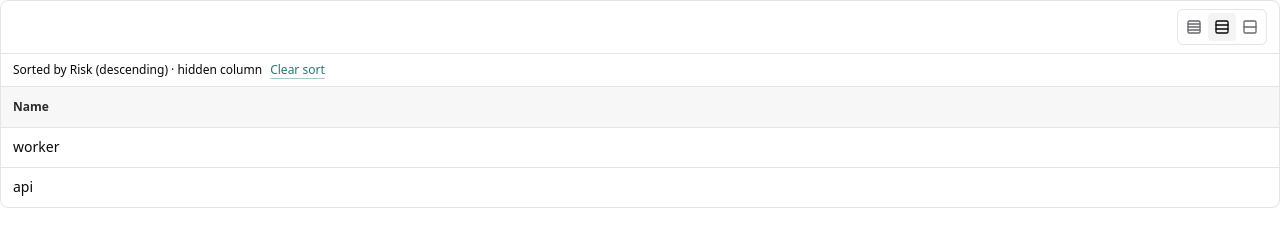
Test: DataTable acceptance › keeps hidden-column sort visible and effective until the operator clears it
This screenshot has width=1280, height=225.
Expected: the row "worker" is shown, left=1, top=127, right=1279, bottom=167
Click the button "Clear sort": {"x": 298, "y": 70} left=270, top=62, right=325, bottom=78
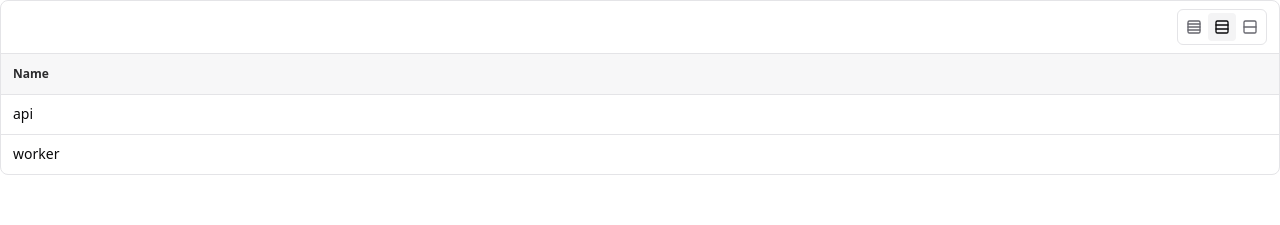
Expected: the row "api" is shown, left=1, top=94, right=1279, bottom=134
Now the text "hidden column" is gone
